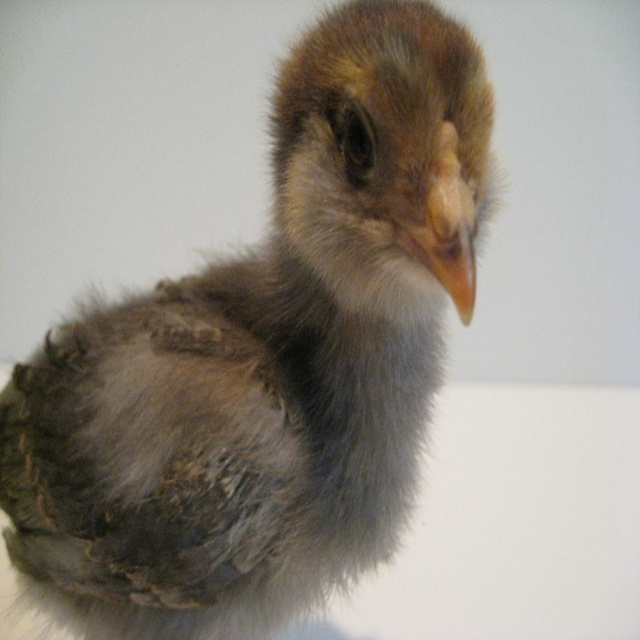Chicken: (0, 0, 504, 639)
